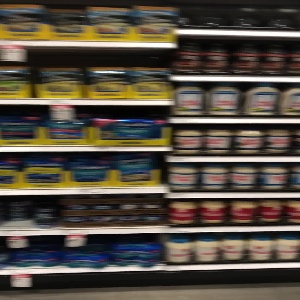void: (183, 2, 300, 30), (1, 194, 31, 230)
